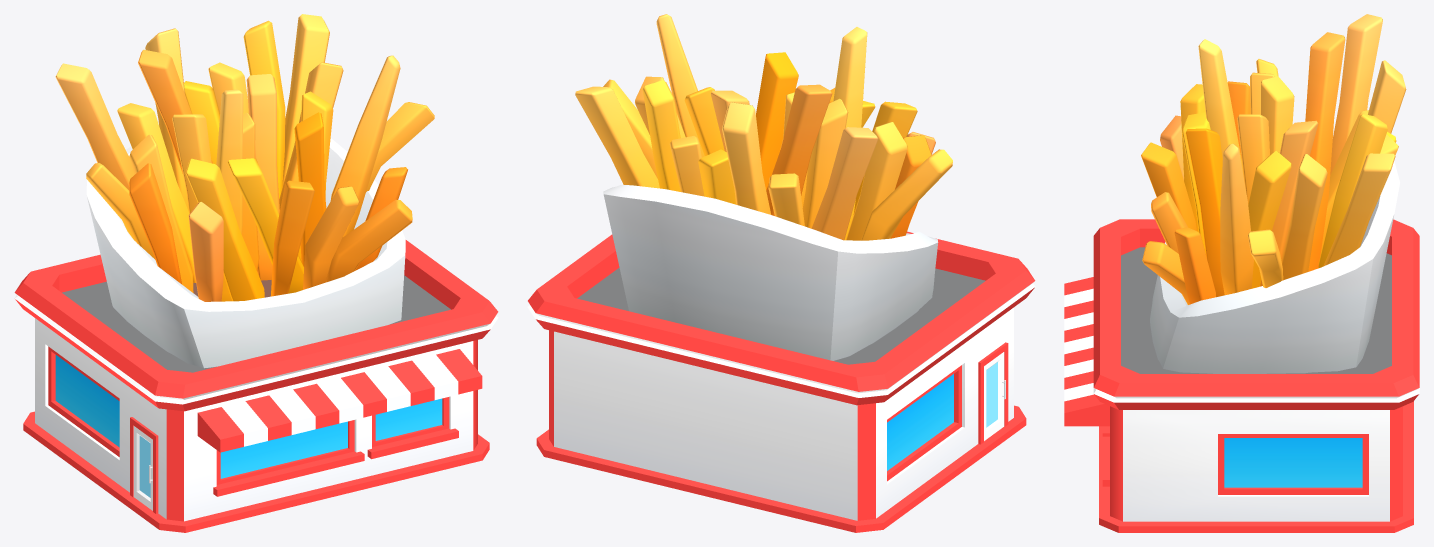
The model's file is city2-building-snack-06.glb.
3 renders of one model, left to right at view 1: azimuth 30°, elevation 25°; view 2: azimuth 150°, elevation 25°; view 3: azimuth 270°, elevation 25°, orthographic. The views are drawn at different scales.
Visible parts, largest first — view 1: Building_Snack_06; view 2: Building_Snack_06; view 3: Building_Snack_06.
Boxes of the visible parts, <box> form: Building_Snack_06: <box>14,14,498,532</box>; Building_Snack_06: <box>527,14,1035,532</box>; Building_Snack_06: <box>1064,14,1419,532</box>.
Size of the model in its own units: 10.86 by 11.32 by 9.45.
1 material, 1 textured.
